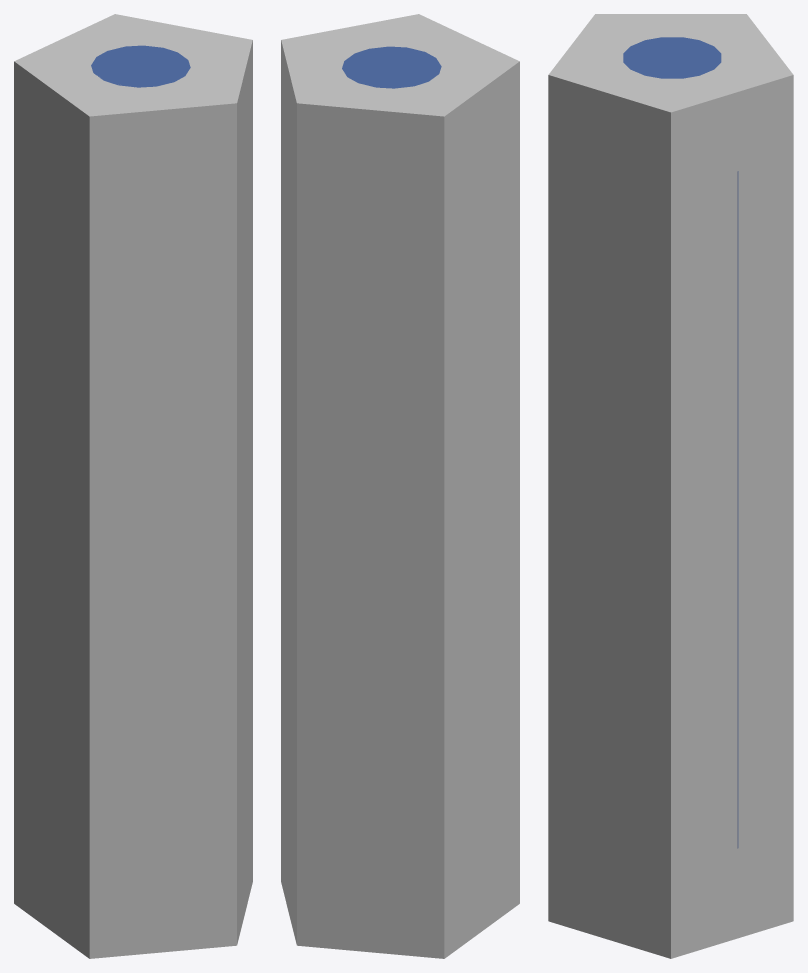
Rendered from SM_Light_Cylinder_02.fbx.
3 views of the same model, side by side, from view 1: azimuth 30°, elevation 25°; view 2: azimuth 150°, elevation 25°; view 3: azimuth 270°, elevation 25° (orthographic).
Visible parts, largest first — view 1: SM_Light_Cylinder_02_ConvexHulls, SM_Light_Cylinder_02; view 2: SM_Light_Cylinder_02_ConvexHulls, SM_Light_Cylinder_02; view 3: SM_Light_Cylinder_02_ConvexHulls, SM_Light_Cylinder_02.
Boxes of the visible parts, x1,y1,x2,y2 form: SM_Light_Cylinder_02_ConvexHulls: [14, 14, 252, 958]; SM_Light_Cylinder_02: [91, 45, 190, 87]; SM_Light_Cylinder_02_ConvexHulls: [281, 14, 519, 958]; SM_Light_Cylinder_02: [342, 46, 441, 88]; SM_Light_Cylinder_02_ConvexHulls: [548, 14, 793, 958]; SM_Light_Cylinder_02: [623, 37, 738, 848].
Size of the model in its own units: 89.47 by 94.08 by 358.
2 materials, 1 textured.
